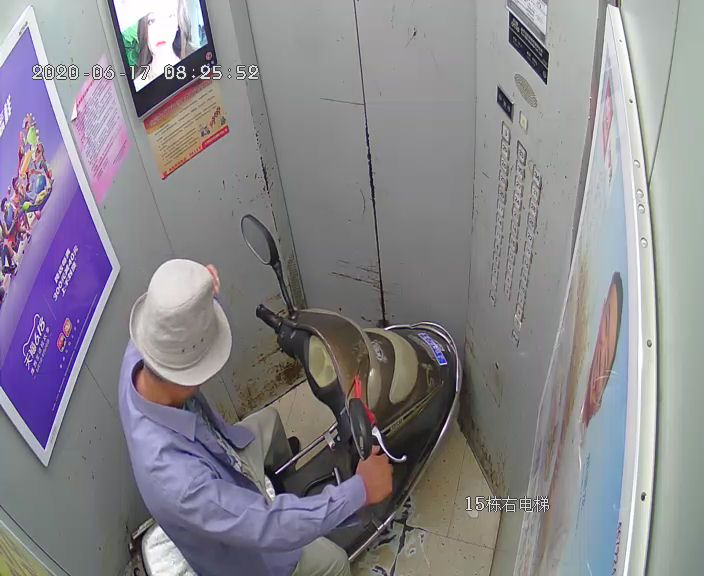Electric-bicycle: (138, 215, 459, 574)
